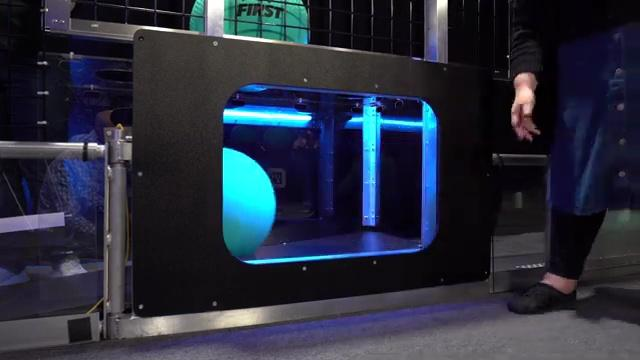ALGAE: (221, 145, 277, 258), (189, 0, 311, 44)
